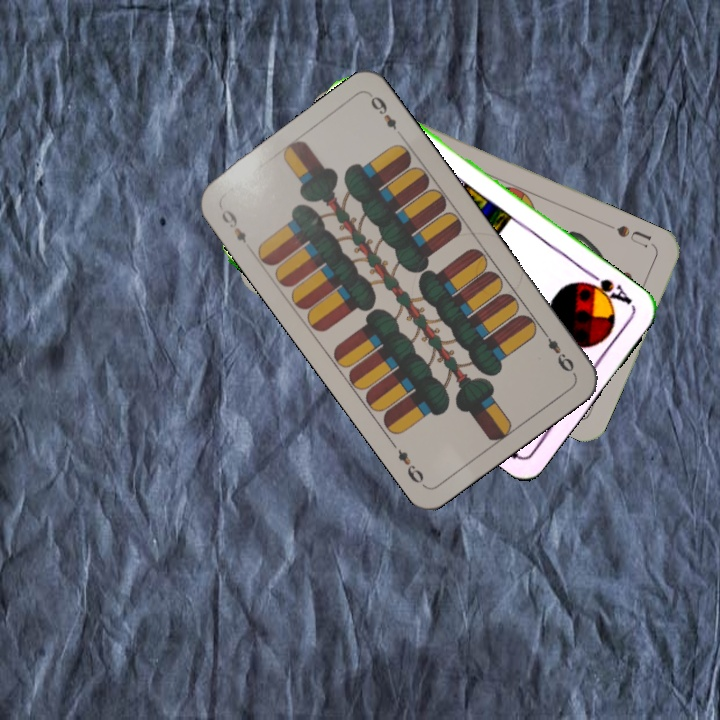E9: (538, 326, 578, 377), (217, 205, 249, 246)
SA: (578, 267, 635, 310)
SU: (612, 221, 659, 252)
